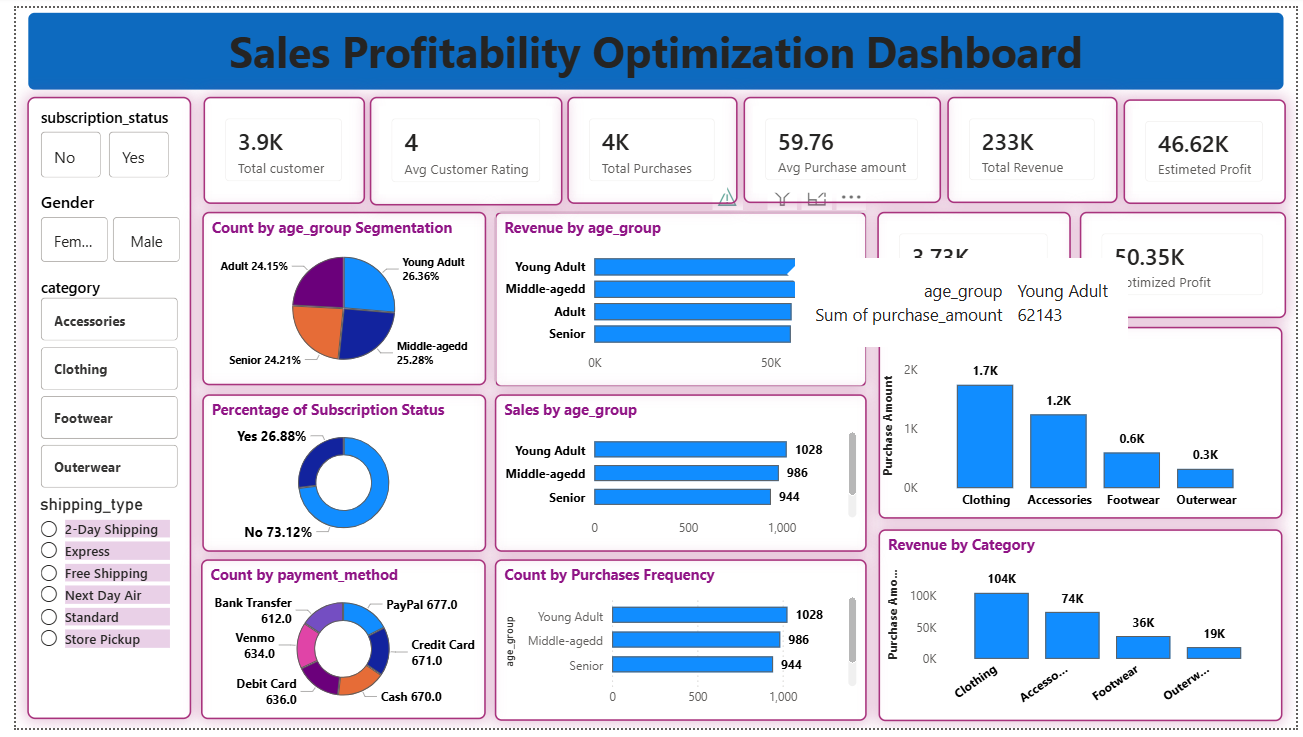

The page's visual inventory and layout, read from the dashboard file:
{"tool":"powerbi","page":{"name":"Page 1","canvas":[1280,720],"ordinal":0},"visuals":[{"type":"textbox","box":[7.5,0,1265,86],"z":0},{"type":"donutChart","title":"Percentage of Subscription Status","fields":{"Category":["public customer_table_1.subscription_status"],"Y":["Sum(public customer_table_1.purchase_amount)"]},"box":[186.2,386.2,283.8,157.5],"z":1000},{"type":"clusteredColumnChart","title":"Revenue by Category","fields":{"Y":["Sum(public customer_table_1.purchase_amount)"],"Category":["public customer_table_1.category"]},"box":[862.5,521.2,403.8,192],"z":2000},{"type":"clusteredColumnChart","title":"Sales  by Category","fields":{"Category":["public customer_table_1.category"],"Y":["CountNonNull(public customer_table_1.purchase_amount)"]},"box":[862.5,318.8,403.8,192],"z":3000},{"type":"shape","box":[11.2,88.8,163.8,622.5],"z":4000},{"type":"advancedSlicerVisual","fields":{"Values":["public customer_table_1.subscription_status"]},"box":[20,98.8,139,76],"z":5000},{"type":"advancedSlicerVisual","title":"Gender","fields":{"Values":["public customer_table_1.gender"]},"box":[20,182.5,149,77],"z":6000},{"type":"advancedSlicerVisual","fields":{"Values":["public customer_table_1.category"]},"box":[20,268.8,147.5,217.5],"z":7000},{"type":"listSlicer","fields":{"Values":["public customer_table_1.shipping_type"]},"box":[18.8,486.2,141.2,207.5],"z":8000},{"type":"clusteredBarChart","title":"Revenue  by age_group","fields":{"Category":["public customer_table_1.age_group"],"Y":["Sum(public customer_table_1.purchase_amount)"]},"box":[478.8,203.8,372,175],"z":9000},{"type":"clusteredBarChart","title":"Sales by age_group","fields":{"Y":["CountNonNull(public customer_table_1.customer_id)"],"Category":["public customer_table_1.age_group"]},"box":[478.8,386.2,372,157.5],"z":10000},{"type":"clusteredBarChart","title":"Count by Purchases Frequency","fields":{"Y":["CountNonNull(public customer_table_1.frequency_of_purchases)"],"Category":["public customer_table_1.age_group"]},"box":[478.8,551.2,372,161.2],"z":11000},{"type":"donutChart","title":"Count by payment_method","fields":{"Category":["public customer_table_1.payment_method"],"Y":["CountNonNull(public customer_table_1.payment_method)"]},"box":[185,551.2,285,160],"z":12000},{"type":"pieChart","title":"Count by  age_group Segmentation","fields":{"Category":["public customer_table_1.age_group"],"Y":["CountNonNull(public customer_table_1.age_group)"]},"box":[186.2,203.8,283.8,173.8],"z":13000},{"type":"cardVisual","fields":{"Data":["public customer_table_1.Total Sales"]},"box":[931.2,88.8,170,106.2],"z":14000},{"type":"cardVisual","fields":{"Data":["public customer_table_1.Total Transactions"]},"box":[551.2,88.8,170,107.5],"z":15000},{"type":"cardVisual","fields":{"Data":["Count(public customer_table_1.customer_id)"]},"box":[187.5,88.8,161.2,107.5],"z":16000},{"type":"cardVisual","fields":{"Data":["public customer_table_1.Average Purchase Amount"]},"box":[727.5,88.8,197.5,106.2],"z":17000},{"type":"cardVisual","fields":{"Data":["public customer_table_1.Average Review Rating"]},"box":[353.8,88.8,193,108.8],"z":18000},{"type":"cardVisual","fields":{"Data":["public customer_table_1.Estimeted Profit"]},"box":[1107.5,91.2,162.5,105],"z":20000},{"type":"cardVisual","fields":{"Data":["public customer_table_1.Optimized Profit"]},"box":[1063.8,203.8,206.2,106.2],"z":21000},{"type":"cardVisual","fields":{"Data":["public customer_table_1.Profit Increase"]},"box":[861.2,203.8,193.8,106.2],"z":22000}]}

Visuals, with their boxes in screenshot pixels (x1, y1, x2, y2), scaled from the page's 1280x720 canvas onto the 1303x737 screenshot:
textbox: locate(8, 0, 1295, 88)
"Percentage of Subscription Status" donutChart: locate(190, 395, 478, 557)
"Revenue by Category" clusteredColumnChart: locate(878, 534, 1289, 730)
"Sales  by Category" clusteredColumnChart: locate(878, 326, 1289, 523)
shape: locate(11, 91, 178, 728)
advancedSlicerVisual - public customer_table_1.subscription_status: locate(20, 101, 162, 179)
"Gender" advancedSlicerVisual: locate(20, 187, 172, 266)
advancedSlicerVisual - public customer_table_1.category: locate(20, 275, 171, 498)
listSlicer - public customer_table_1.shipping_type: locate(19, 498, 163, 710)
"Revenue  by age_group" clusteredBarChart: locate(487, 209, 866, 388)
"Sales by age_group" clusteredBarChart: locate(487, 395, 866, 557)
"Count by Purchases Frequency" clusteredBarChart: locate(487, 564, 866, 729)
"Count by payment_method" donutChart: locate(188, 564, 478, 728)
"Count by  age_group Segmentation" pieChart: locate(190, 209, 478, 387)
cardVisual - public customer_table_1.Total Sales: locate(948, 91, 1121, 200)
cardVisual - public customer_table_1.Total Transactions: locate(561, 91, 734, 201)
cardVisual - Count(public customer_table_1.customer_id): locate(191, 91, 355, 201)
cardVisual - public customer_table_1.Average Purchase Amount: locate(741, 91, 942, 200)
cardVisual - public customer_table_1.Average Review Rating: locate(360, 91, 557, 202)
cardVisual - public customer_table_1.Estimeted Profit: locate(1127, 93, 1293, 201)
cardVisual - public customer_table_1.Optimized Profit: locate(1083, 209, 1293, 317)
cardVisual - public customer_table_1.Profit Increase: locate(877, 209, 1074, 317)
